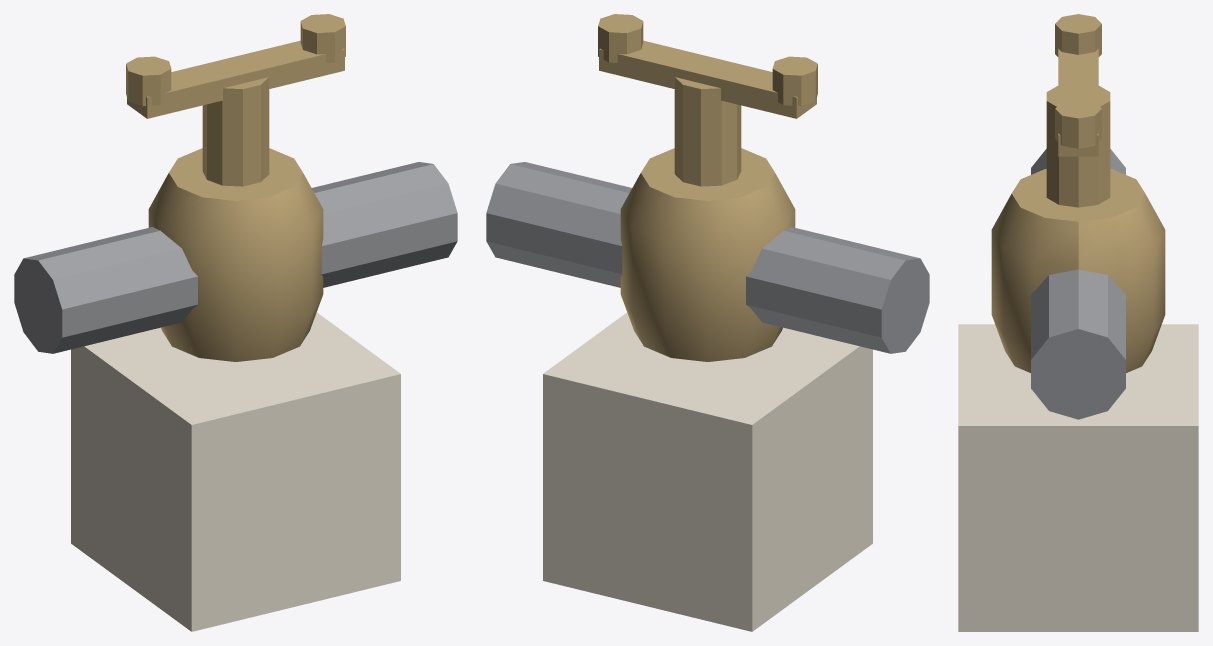
The model's file is roman-bathhouse-and-palaestra-bronze-stopcock-valve-b33ea31d__37886.glb.
3 views of the same model, side by side, from view 1: azimuth 30°, elevation 25°; view 2: azimuth 150°, elevation 25°; view 3: azimuth 270°, elevation 25° (orthographic).
Visible parts, largest first — view 1: bronze-stopcock-valve, valve-handle; view 2: bronze-stopcock-valve, valve-handle; view 3: bronze-stopcock-valve, valve-handle.
Part boxes in pixels (x1,y1,x2,y2): bronze-stopcock-valve: (14, 148, 457, 631); valve-handle: (126, 14, 345, 186); bronze-stopcock-valve: (486, 148, 929, 631); valve-handle: (598, 14, 817, 186); bronze-stopcock-valve: (958, 149, 1198, 631); valve-handle: (1046, 14, 1110, 207).
Bounding box in the file's own units: 0.68 × 0.85 × 0.36.
